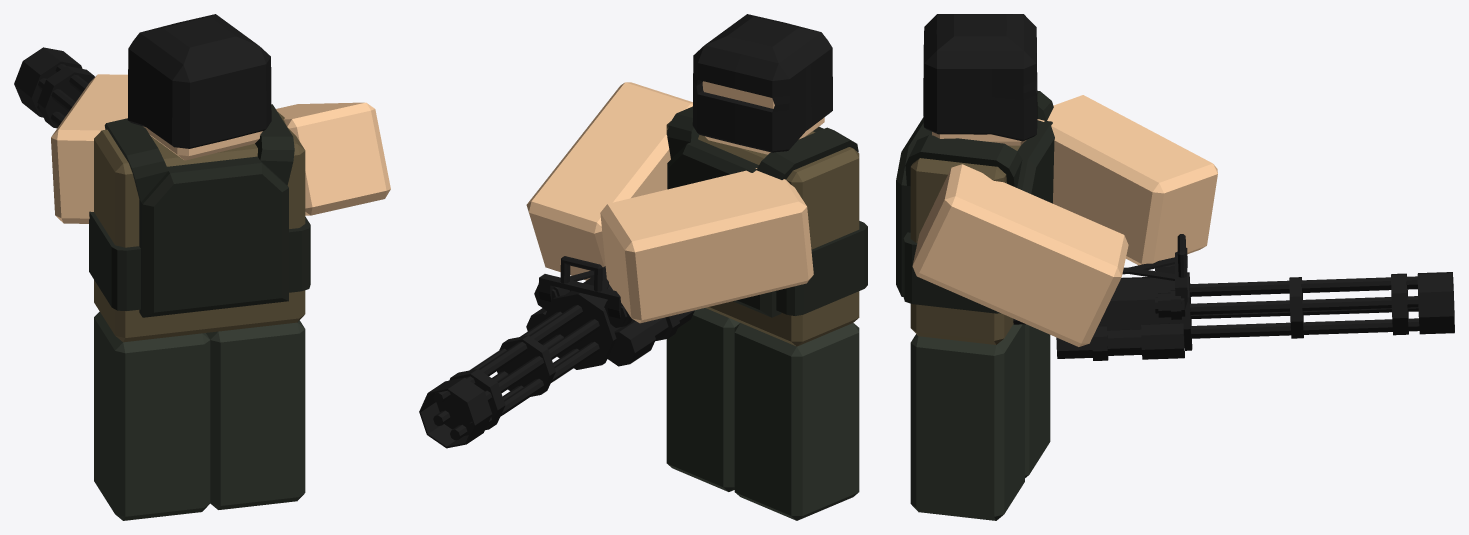
The picture shows the model from 3 angles, left to right: view 1: azimuth 30°, elevation 25°; view 2: azimuth 150°, elevation 25°; view 3: azimuth 270°, elevation 25°; orthographic projection. The views are drawn at different scales.
Parts seen in each view (by area): view 1: SWAT.Torso, SWAT.Legs, SWAT.Arm_R, SWAT.Arm_L; view 2: SWAT.Torso, SWAT.Arm_R, SWAT.Legs, SWAT.Arm_L; view 3: SWAT.Arm_R, SWAT.Torso, SWAT.Legs, SWAT.Arm_L.
Part boxes in pixels (x1,y1,x2,y2): SWAT.Torso: (89, 14, 310, 342); SWAT.Legs: (94, 311, 305, 520); SWAT.Arm_R: (14, 47, 390, 215); SWAT.Arm_L: (51, 74, 127, 223); SWAT.Torso: (666, 14, 867, 346); SWAT.Arm_R: (419, 82, 694, 448); SWAT.Legs: (666, 308, 859, 520); SWAT.Arm_L: (600, 168, 813, 323); SWAT.Arm_R: (912, 164, 1454, 360); SWAT.Torso: (896, 14, 1054, 344); SWAT.Legs: (910, 324, 1050, 520); SWAT.Arm_L: (1037, 95, 1217, 265).
Bounding box in the file's own units: 317 × 518 × 576.
